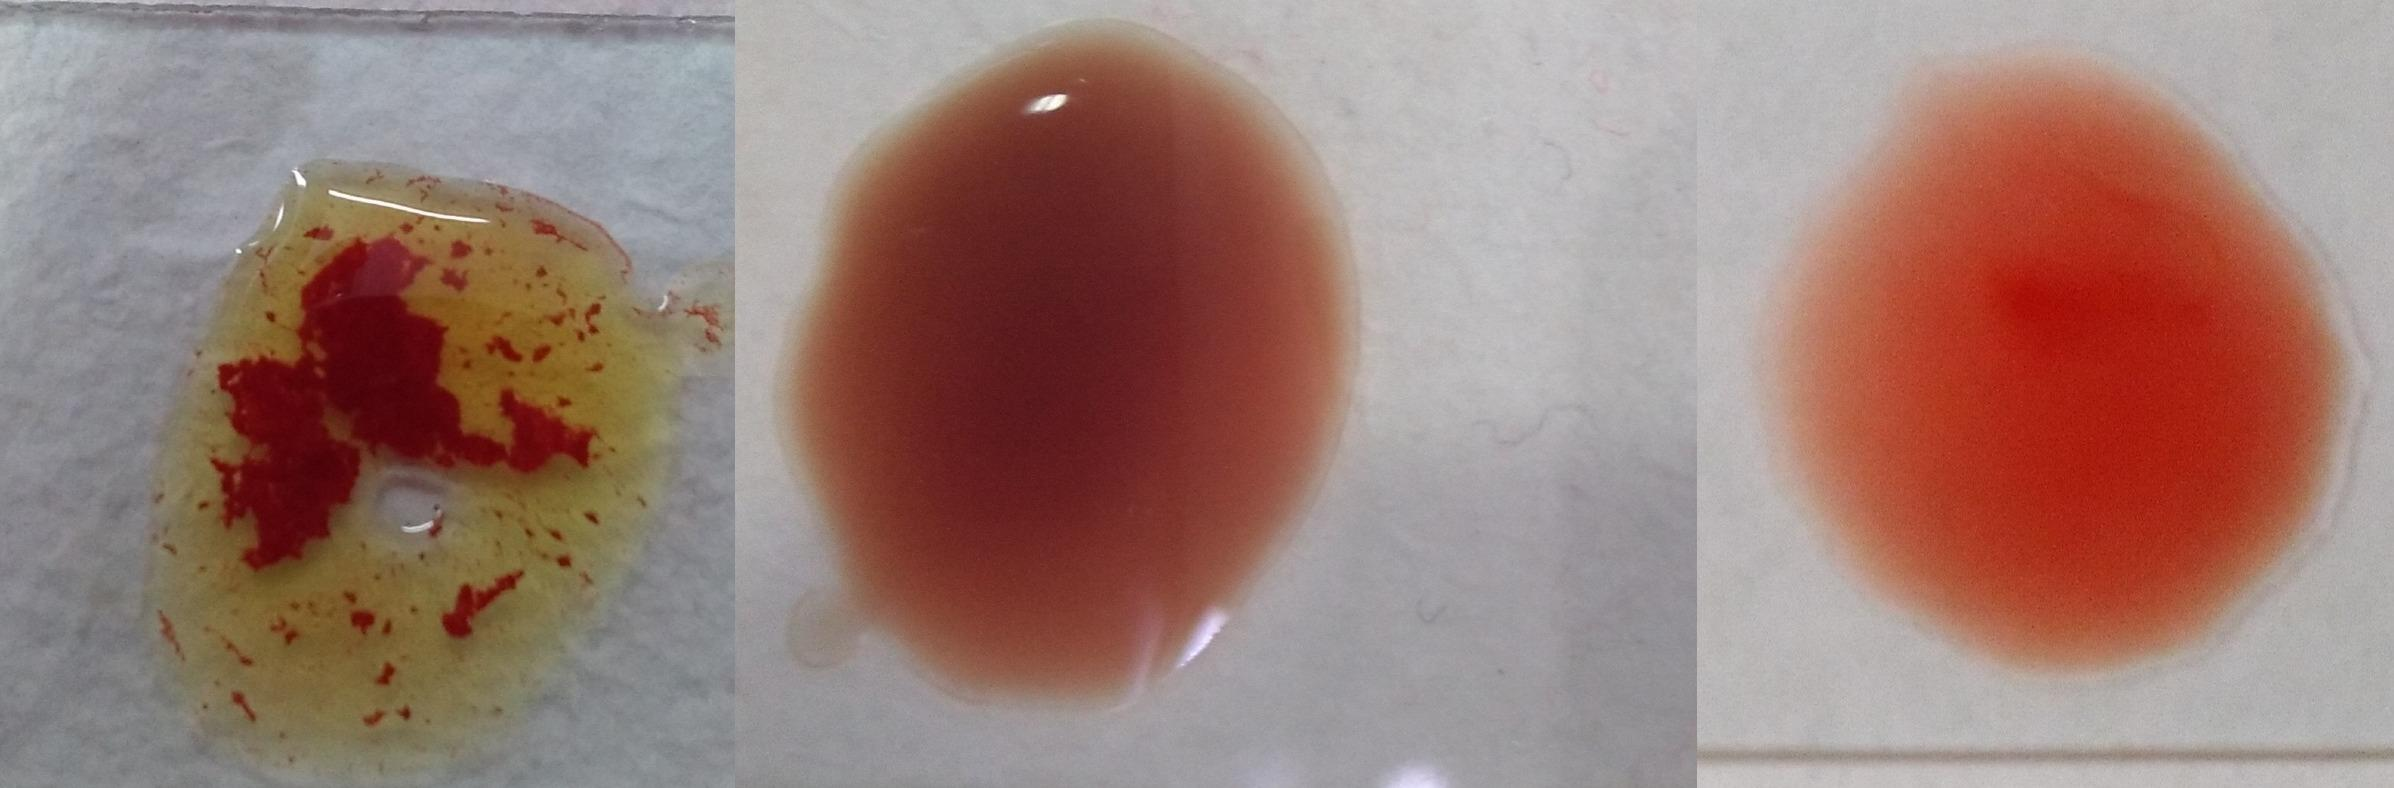B: (144, 137, 653, 750)
